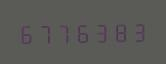eight: (112, 19, 130, 43)
seven: (36, 20, 54, 44), (55, 20, 73, 44)
six: (17, 21, 35, 44), (74, 20, 92, 43)
three: (93, 19, 111, 43), (131, 19, 149, 42)
